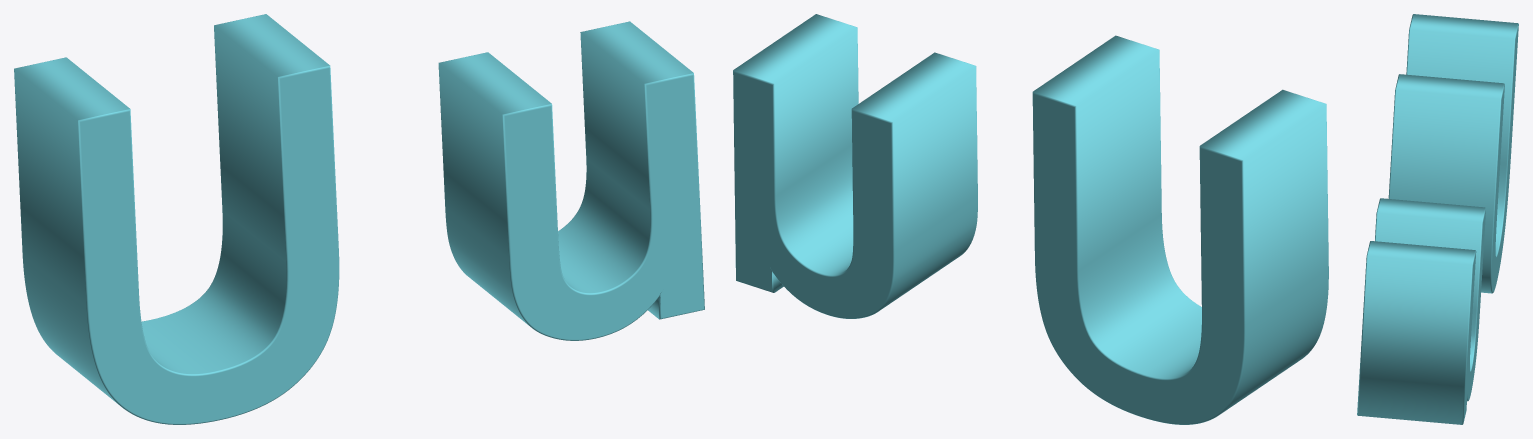
The model's file is ObjectU.fbx.
The picture shows the model from 3 angles, left to right: view 1: azimuth 30°, elevation 25°; view 2: azimuth 150°, elevation 25°; view 3: azimuth 270°, elevation 25°; orthographic projection. The views are drawn at different scales.
Visible parts, largest first — view 1: Text; view 2: Text; view 3: Text.
Boxes of the visible parts, left/top/right/bottom form: Text: left=14, top=14, right=704, bottom=424; Text: left=733, top=14, right=1328, bottom=424; Text: left=1357, top=14, right=1518, bottom=424.
Bounding box in the file's own units: 271 × 143 × 92.8.
